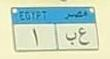1: (31, 28, 41, 46)
ain: (78, 27, 90, 46)
baa: (65, 32, 77, 46)
